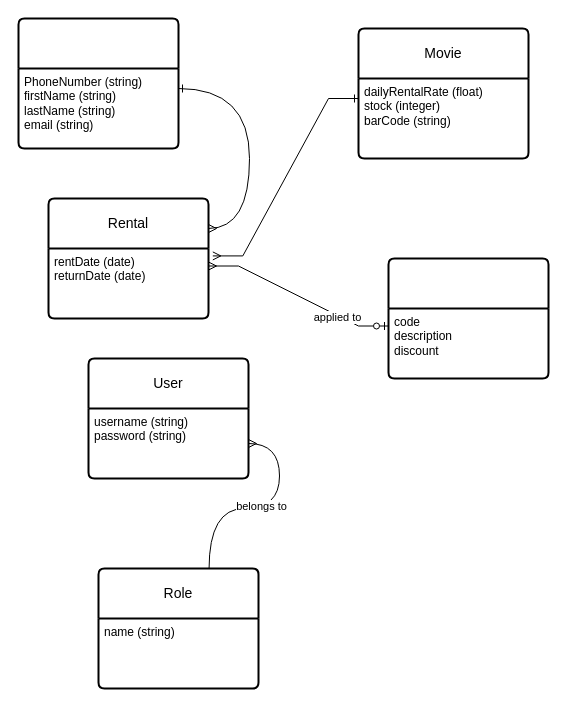
Image size: 566x706. Some labels were removed from this diagram. The box of each missing label's shape, as (x1, y1, x2, y2) in pixels:
coupon: (387, 257, 549, 379)
Customer: (17, 17, 179, 149)
